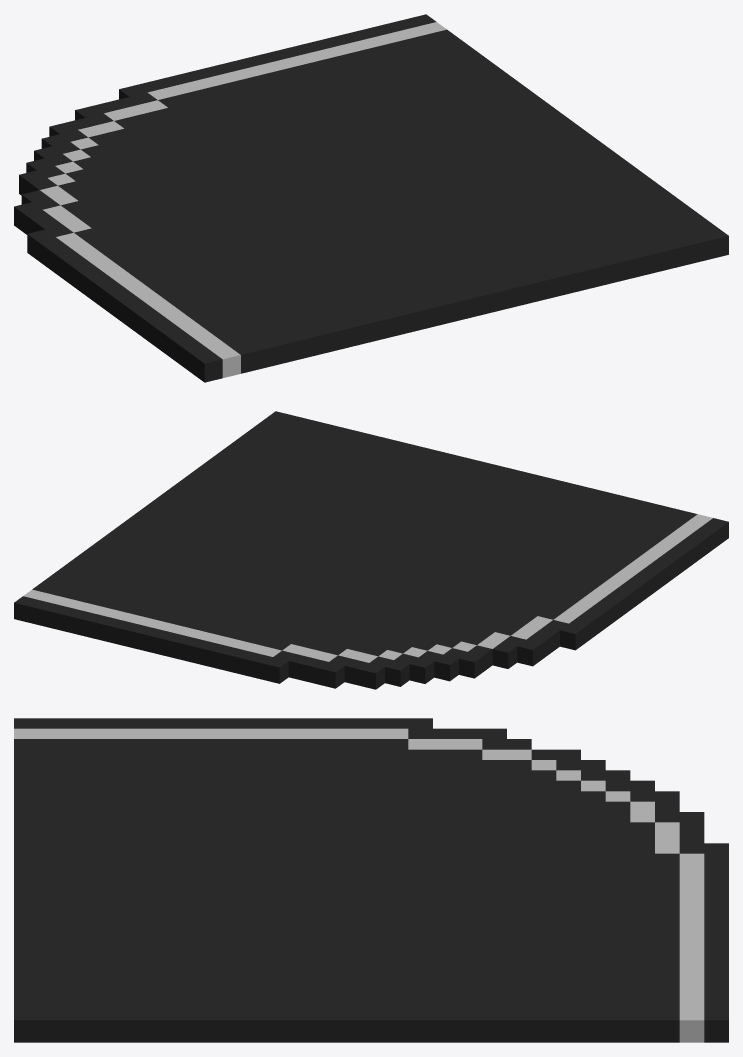
The model's file is asphalt-rounded-edge-outer.gltf.
3 renders of one model, top to bottom at view 1: azimuth 30°, elevation 25°; view 2: azimuth 150°, elevation 25°; view 3: azimuth 270°, elevation 25°, orthographic. The views are drawn at different scales.
Visible parts, largest first — view 1: asphalt-rounded-edge-outer_model; view 2: asphalt-rounded-edge-outer_model; view 3: asphalt-rounded-edge-outer_model.
Part boxes in pixels (x1,y1,x2,y2): asphalt-rounded-edge-outer_model: [14, 14, 728, 382]; asphalt-rounded-edge-outer_model: [14, 411, 728, 689]; asphalt-rounded-edge-outer_model: [14, 718, 728, 1042].
Bounding box in the file's own units: 2.9 × 0.1 × 2.9.
Materials: 1 (1 with a texture image).
